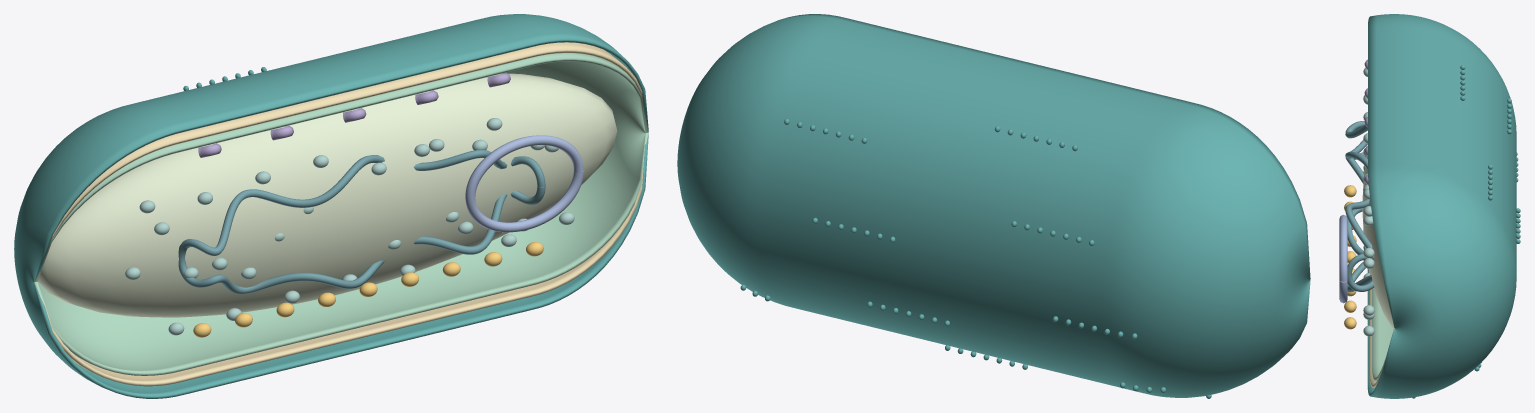
Rendered from engineered-ecn.glb.
3 renders of one model, left to right at view 1: azimuth 30°, elevation 25°; view 2: azimuth 150°, elevation 25°; view 3: azimuth 270°, elevation 25°, orthographic. The views are drawn at different scales.
Parts seen in each view (by area): view 1: cytoplasmic volume, inner membrane, outer membrane, peptidoglycan layer, folded bacterial chromosome, plasmid loop; view 2: outer membrane; view 3: outer membrane, folded bacterial chromosome, inner membrane, cytoplasmic volume, plasmid loop, peptidoglycan layer.
Part boxes in pixels (box(x1,y1,x2,y2)): cytoplasmic volume: box(38, 73, 617, 317); inner membrane: box(34, 53, 648, 375); outer membrane: box(14, 14, 648, 398); peptidoglycan layer: box(36, 42, 647, 386); folded bacterial chromosome: box(178, 149, 545, 294); plasmid loop: box(465, 135, 583, 232); outer membrane: box(677, 14, 1310, 397); outer membrane: box(1367, 14, 1516, 398); folded bacterial chromosome: box(1345, 121, 1374, 292); inner membrane: box(1372, 288, 1394, 380); cytoplasmic volume: box(1362, 156, 1394, 328); plasmid loop: box(1339, 214, 1347, 303); peptidoglycan layer: box(1370, 289, 1385, 387).
Bounding box in the file's own units: 3.4 × 1.46 × 1.07.
